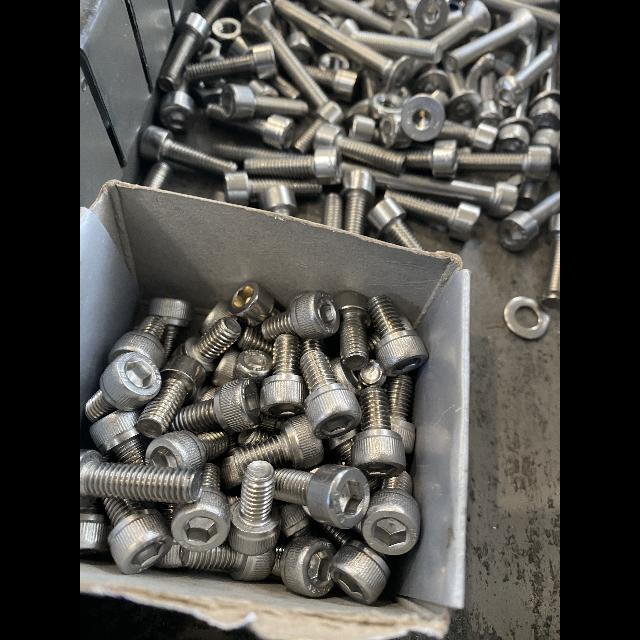Stainless Steel: (274, 0, 412, 90), (341, 159, 518, 218), (241, 3, 330, 109), (222, 414, 324, 489), (80, 450, 202, 504), (138, 347, 207, 440), (273, 464, 370, 529), (444, 6, 535, 68), (300, 346, 361, 438), (85, 351, 160, 422), (103, 498, 173, 574), (171, 463, 230, 552), (384, 189, 483, 241), (139, 125, 239, 176), (351, 385, 405, 477), (361, 471, 420, 555), (314, 123, 407, 174), (369, 296, 428, 376), (174, 379, 261, 432), (340, 20, 438, 62), (329, 539, 390, 605), (244, 145, 342, 186), (158, 12, 209, 90), (260, 333, 305, 420), (273, 536, 337, 597), (261, 291, 339, 339), (499, 192, 560, 253), (178, 543, 274, 581), (187, 42, 279, 81), (364, 197, 426, 251), (457, 144, 550, 180), (225, 171, 320, 206), (494, 53, 551, 110), (144, 430, 227, 469), (185, 315, 241, 372), (219, 84, 307, 120), (430, 0, 492, 49), (90, 410, 145, 464), (108, 316, 165, 368), (334, 292, 372, 369), (348, 71, 410, 117), (338, 168, 377, 235), (294, 101, 345, 151), (149, 298, 192, 357), (483, 0, 560, 31), (403, 91, 447, 144), (318, 0, 393, 31), (386, 375, 415, 454), (525, 62, 560, 127), (160, 74, 197, 133), (304, 64, 358, 101), (406, 140, 457, 179), (229, 282, 274, 326), (234, 116, 294, 147), (504, 296, 547, 339), (491, 105, 531, 151), (446, 72, 481, 123), (440, 122, 500, 151), (214, 143, 315, 160), (80, 497, 109, 553), (544, 216, 560, 306), (330, 357, 366, 396), (285, 20, 316, 65), (472, 74, 503, 119), (406, 0, 445, 34), (236, 349, 272, 383), (259, 184, 297, 216), (378, 113, 412, 148), (280, 503, 313, 538), (199, 301, 232, 335), (212, 348, 240, 386), (237, 325, 273, 354), (413, 65, 448, 93), (329, 430, 356, 465), (346, 115, 379, 143), (361, 0, 409, 19), (320, 523, 355, 548), (530, 129, 560, 158), (516, 180, 544, 210), (202, 0, 231, 28), (155, 541, 184, 568), (144, 162, 172, 189), (211, 19, 243, 42), (388, 16, 420, 39), (360, 360, 387, 386), (323, 193, 343, 228), (245, 78, 277, 98), (318, 51, 351, 70), (227, 35, 253, 58), (273, 76, 300, 98), (238, 429, 270, 447), (201, 39, 223, 61), (259, 414, 281, 434), (195, 386, 218, 403), (206, 106, 225, 122), (301, 339, 322, 352), (368, 329, 380, 350), (168, 507, 172, 512)
